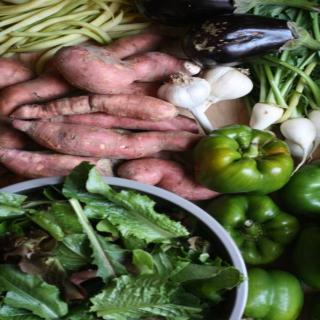Bell pepper: (190, 122, 292, 196), (207, 195, 300, 265), (248, 266, 303, 319), (282, 162, 320, 215), (297, 242, 319, 292)
